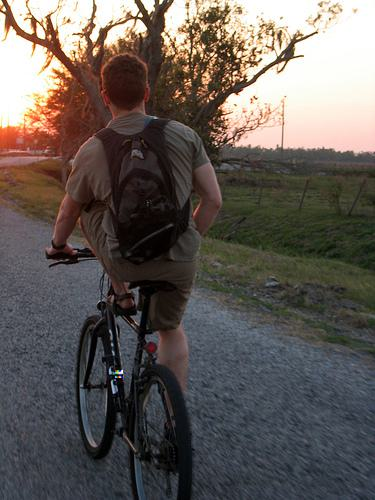car: (44, 248, 194, 500)
person: (47, 53, 222, 475)
